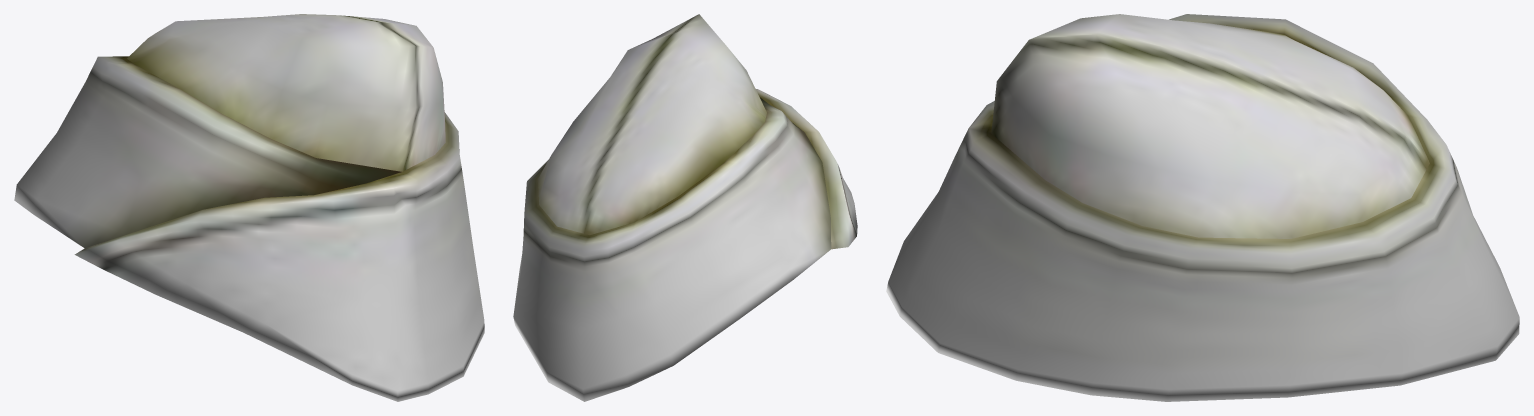
The model's file is shopcleark_cap.fbx.
The picture shows the model from 3 angles, left to right: view 1: azimuth 30°, elevation 25°; view 2: azimuth 150°, elevation 25°; view 3: azimuth 270°, elevation 25°; orthographic projection. The views are drawn at different scales.
Visible parts, largest first — view 1: polySurface1; view 2: polySurface1; view 3: polySurface1.
Part boxes in pixels (x1,y1,x2,y2): polySurface1: (14,14,484,401); polySurface1: (513,14,857,401); polySurface1: (886,14,1519,401).
Size of the model in its own units: 10.45 by 8.46 by 14.35.
